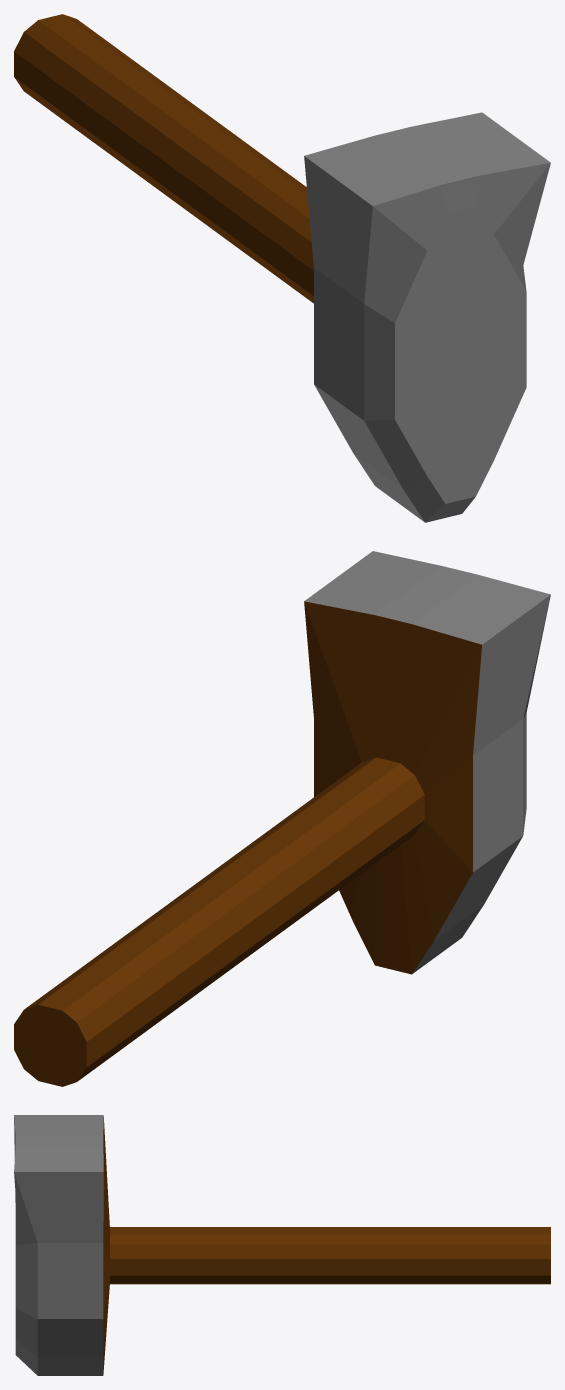
The model's file is Hammer.fbx.
The picture shows the model from 3 angles, top to bottom: view 1: azimuth 30°, elevation 25°; view 2: azimuth 150°, elevation 25°; view 3: azimuth 270°, elevation 25°; orthographic projection. The views are drawn at different scales.
Visible parts, largest first — view 1: Hammer; view 2: Hammer; view 3: Hammer.
Boxes of the visible parts, x1,y1,x2,y2 form: Hammer: [14, 14, 550, 522]; Hammer: [14, 551, 550, 1086]; Hammer: [14, 1115, 550, 1375].
Size of the model in its own units: 75.98 by 143 by 304.
